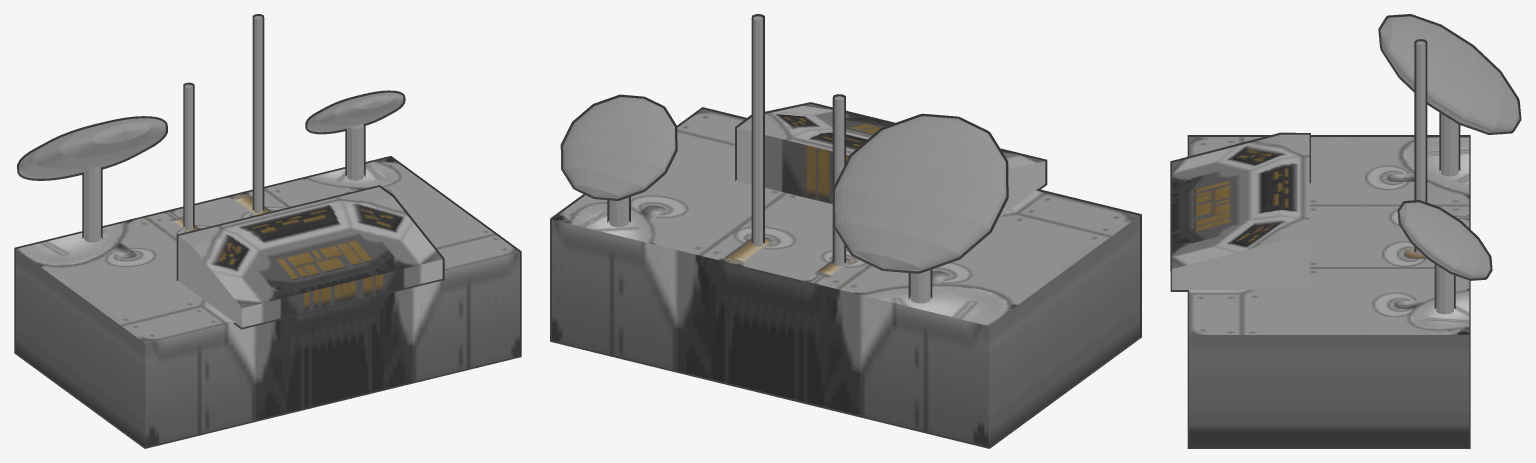
The model's file is Building_CommsConsole.glb.
The picture shows the model from 3 angles, left to right: view 1: azimuth 30°, elevation 25°; view 2: azimuth 150°, elevation 25°; view 3: azimuth 270°, elevation 25°; orthographic projection. The views are drawn at different scales.
Visible parts, largest first — view 1: CommsConsole, Outline; view 2: CommsConsole, Outline; view 3: CommsConsole, Outline.
Boxes of the visible parts, left/top/right/bottom form: CommsConsole: left=16, top=16, right=519, bottom=446; Outline: left=14, top=14, right=521, bottom=448; CommsConsole: left=552, top=16, right=1139, bottom=446; Outline: left=550, top=14, right=1141, bottom=448; CommsConsole: left=1172, top=16, right=1519, bottom=447; Outline: left=1170, top=14, right=1521, bottom=448.
Size of the model in its own units: 3.05 by 2.32 by 2.27.
2 materials, 1 textured.
